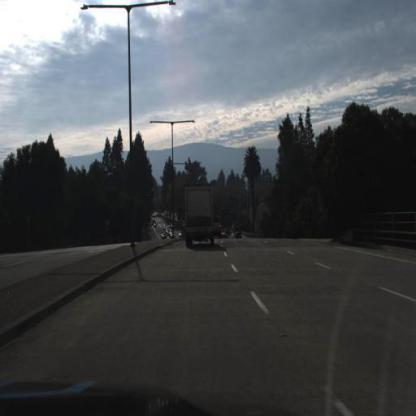car: (215, 214, 222, 237)
truck: (182, 182, 216, 248)
